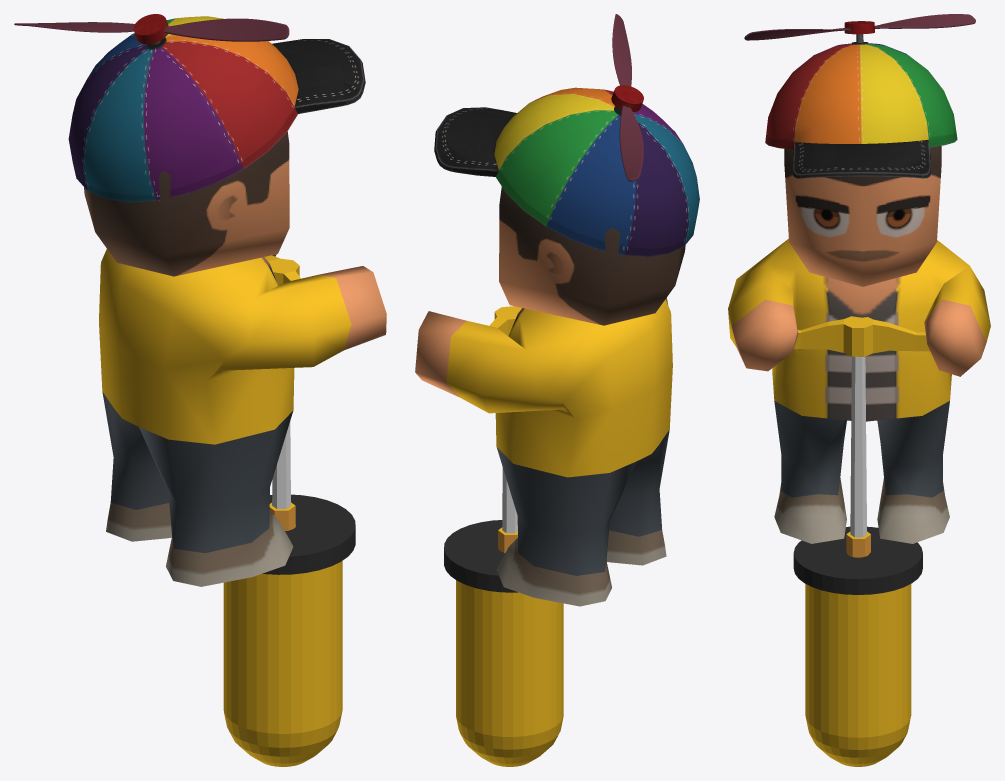
File: NewPogo.fbx
The picture shows the model from 3 angles, left to right: view 1: azimuth 30°, elevation 25°; view 2: azimuth 150°, elevation 25°; view 3: azimuth 270°, elevation 25°; orthographic projection. The views are drawn at different scales.
Visible parts, largest first — view 1: Body_09_jacket.003, Propeller.002, Cylinder.016; view 2: Body_09_jacket.003, Propeller.002, Cylinder.016; view 3: Body_09_jacket.003, Cylinder.016, Propeller.002.
Part boxes in pixels (x1=…): Body_09_jacket.003: x1=84, y1=131, x2=386, y2=586; Propeller.002: x1=14, y1=14, x2=365, y2=202; Cylinder.016: x1=223, y1=255, x2=355, y2=766; Body_09_jacket.003: x1=415, y1=171, x2=685, y2=606; Propeller.002: x1=434, y1=14, x2=699, y2=256; Cylinder.016: x1=444, y1=306, x2=563, y2=766; Body_09_jacket.003: x1=728, y1=131, x2=990, y2=543; Cylinder.016: x1=793, y1=316, x2=930, y2=766; Propeller.002: x1=744, y1=14, x2=975, y2=178.
Bounding box in the file's own units: 0.3719 × 1.03 × 0.3466.
7 materials, 2 textured.
